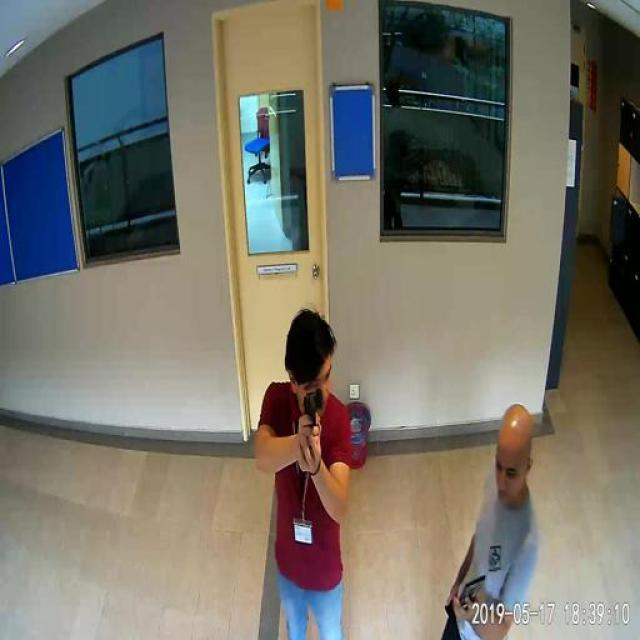Gun: (294, 386, 339, 442)
